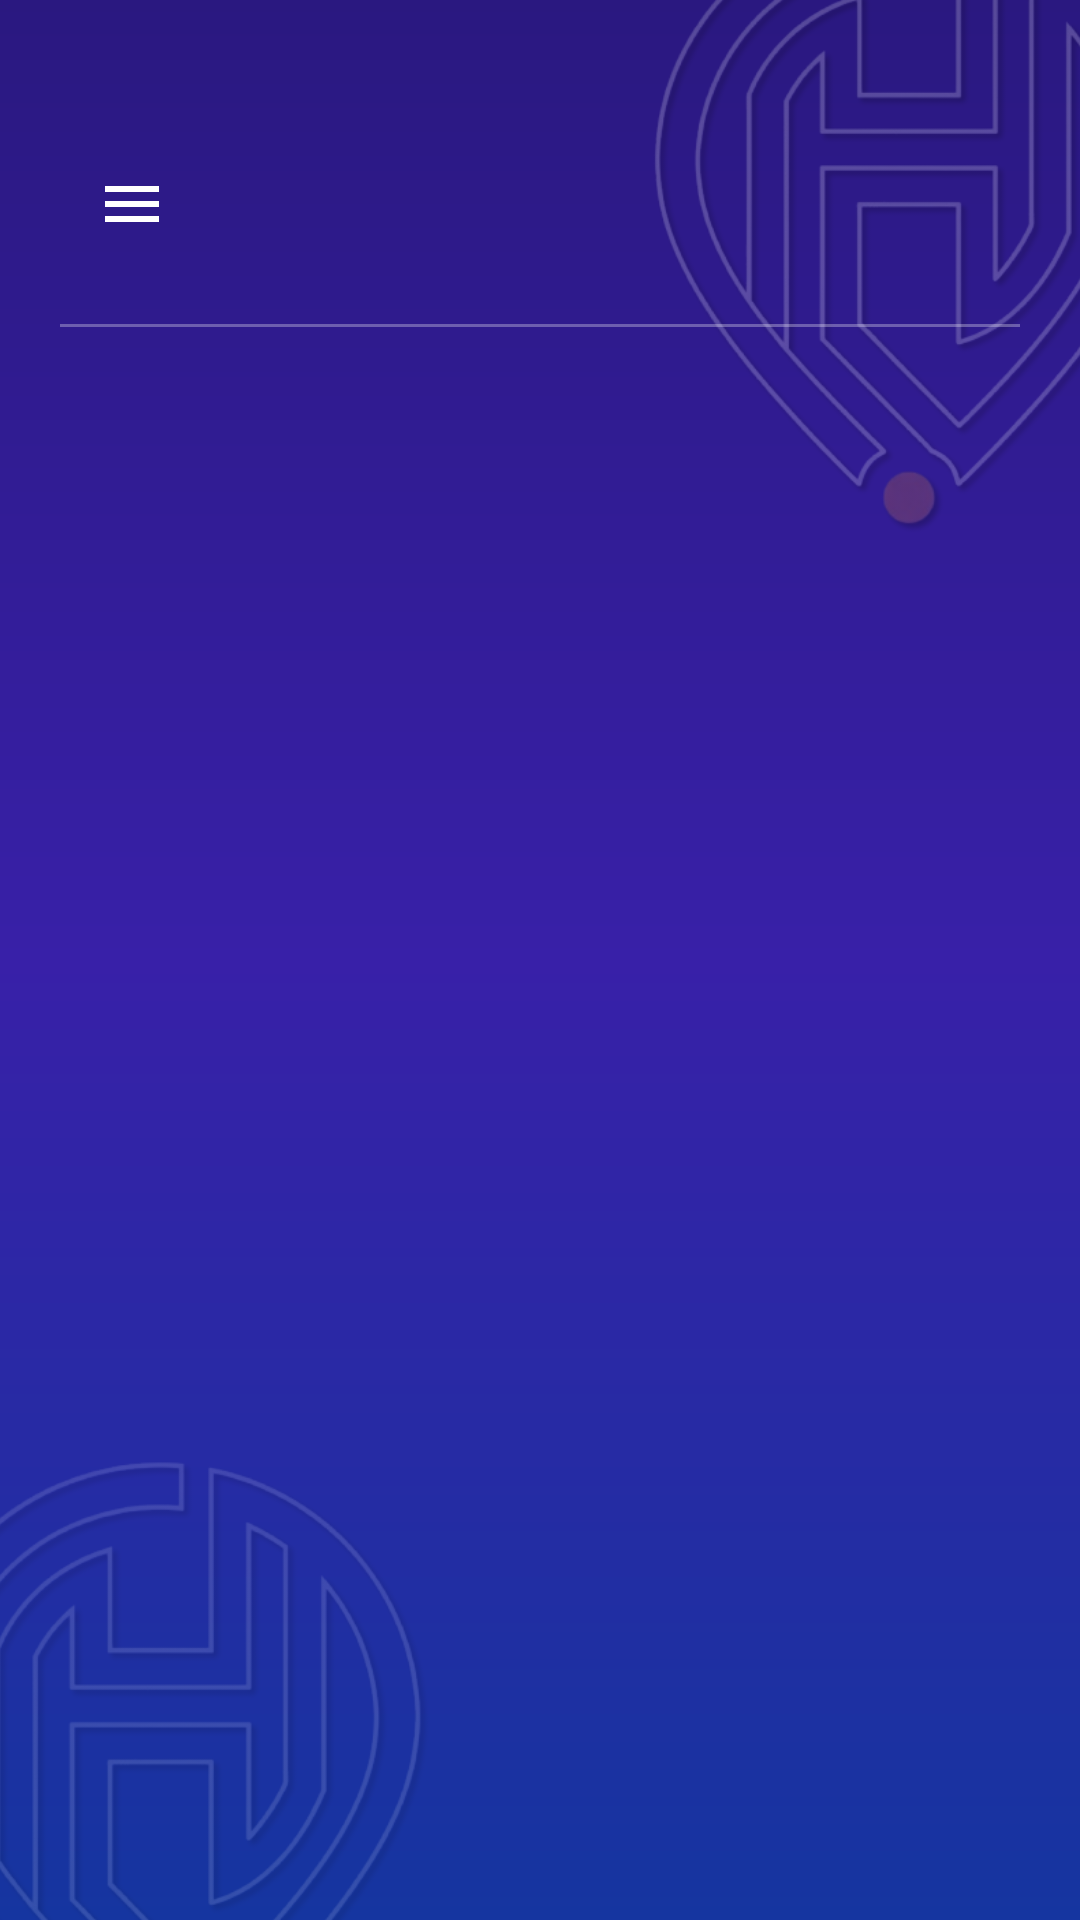

Icon bounding boxes for this 1080×1920 phone screenshot, format bbox=[x1, y1, x2, y2]:
Menu: bbox=[105, 186, 159, 222]
